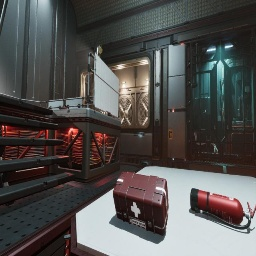EmergencyPhone ,: (168, 127, 172, 139)
FireExtinguisher ]: (190, 188, 256, 230)
FirstAidBox ,: (113, 172, 169, 236), (61, 105, 68, 110)
